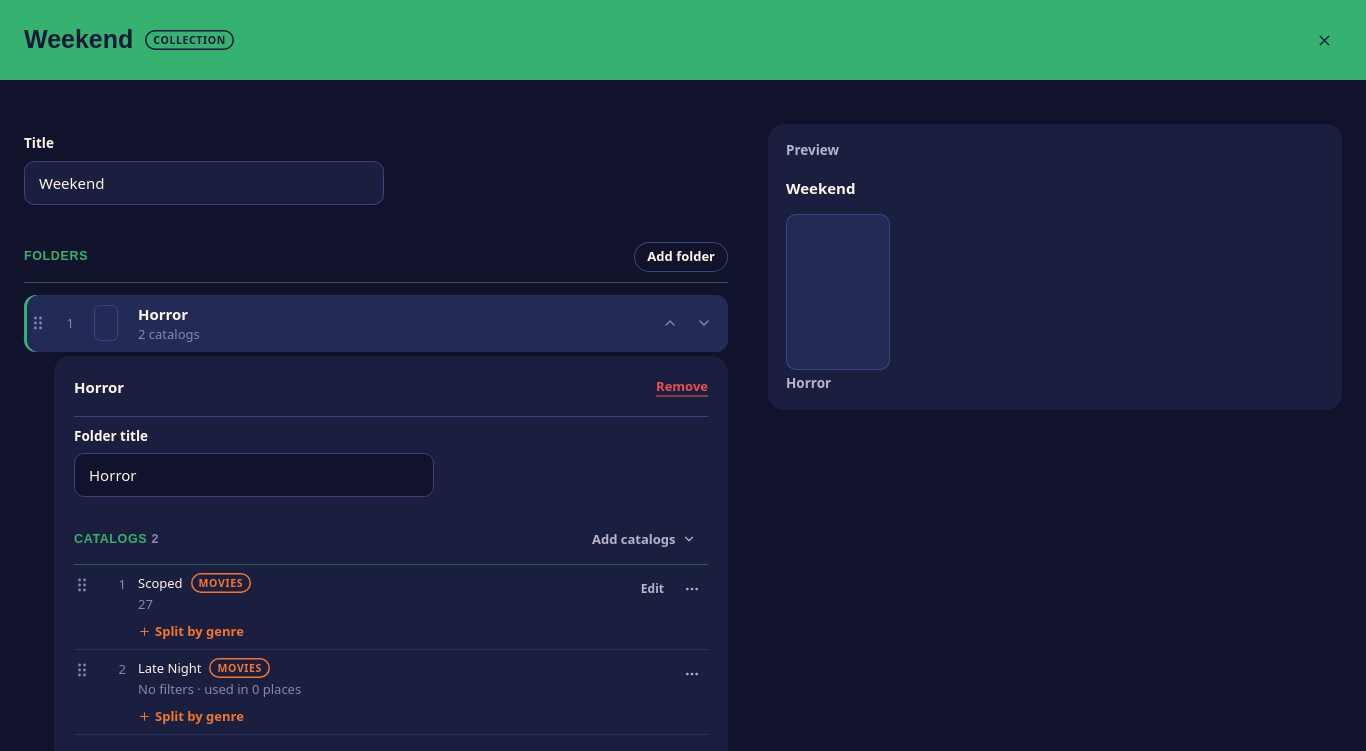
Scenario: CollectionEditor › Copy into library › is offered only for a catalog that lives in this collection
This screenshot has width=1366, height=751.
Press the mouse on the button named "More for Late Night": [692, 674] box [676, 658, 708, 690]
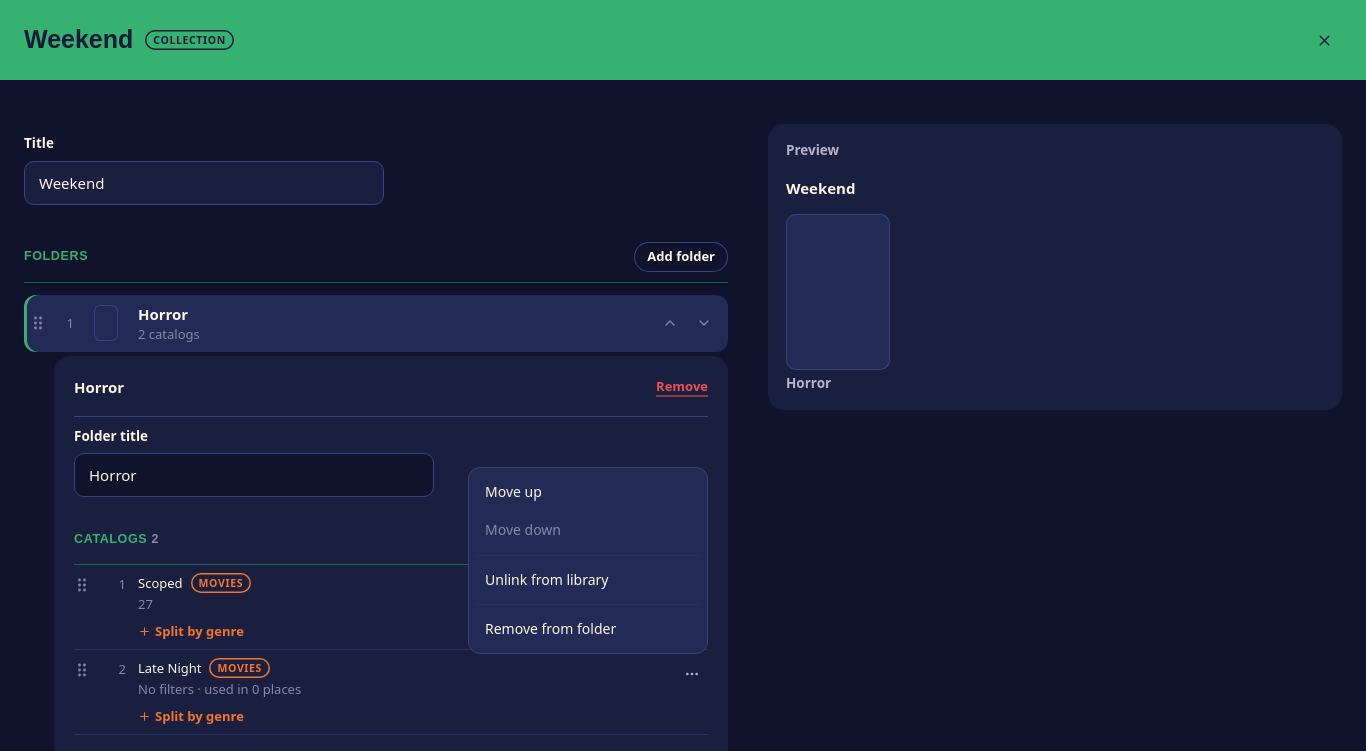
Result: the menu item "Remove from folder" is shown at [485, 619, 616, 638]
